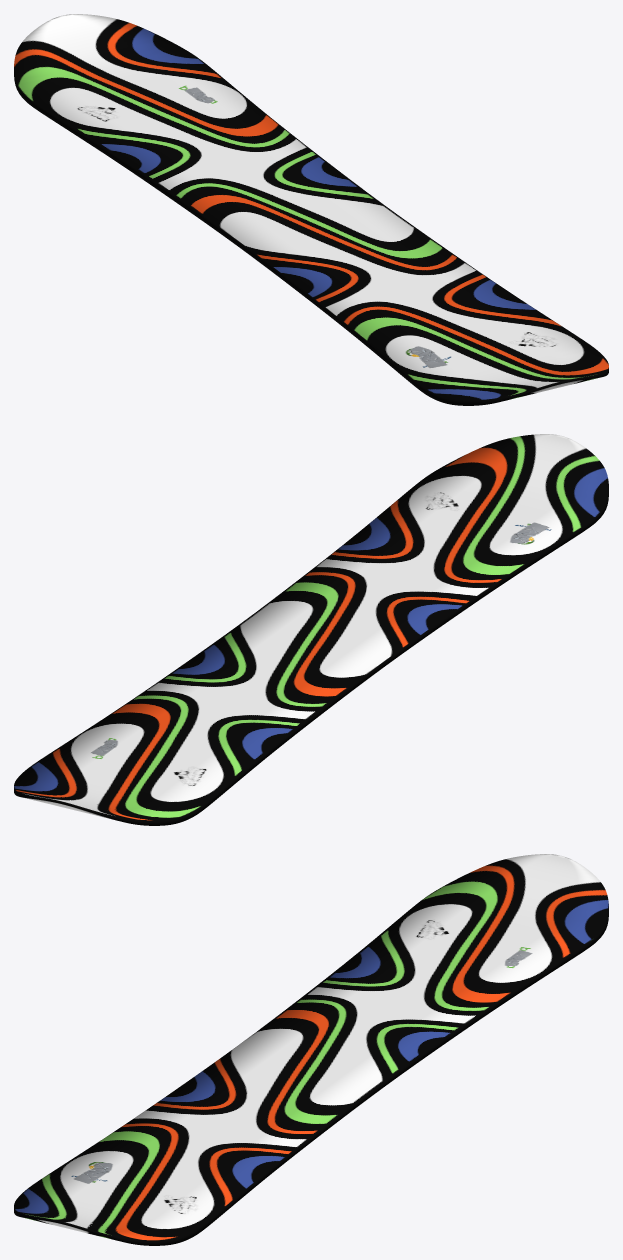
The model's file is snowboardbrazuca.glb.
The picture shows the model from 3 angles, top to bottom: view 1: azimuth 30°, elevation 25°; view 2: azimuth 150°, elevation 25°; view 3: azimuth 330°, elevation 25°; orthographic projection.
Parts seen in each view (by area): view 1: Board_hi; view 2: Board_hi; view 3: Board_hi.
Part boxes in pixels (x1,y1,x2,y2): Board_hi: (14,14,608,405); Board_hi: (14,434,608,825); Board_hi: (14,854,608,1245).
Size of the model in its own units: 0.5946 by 0.1019 by 3.05.
Materials: 2 (1 with a texture image).
